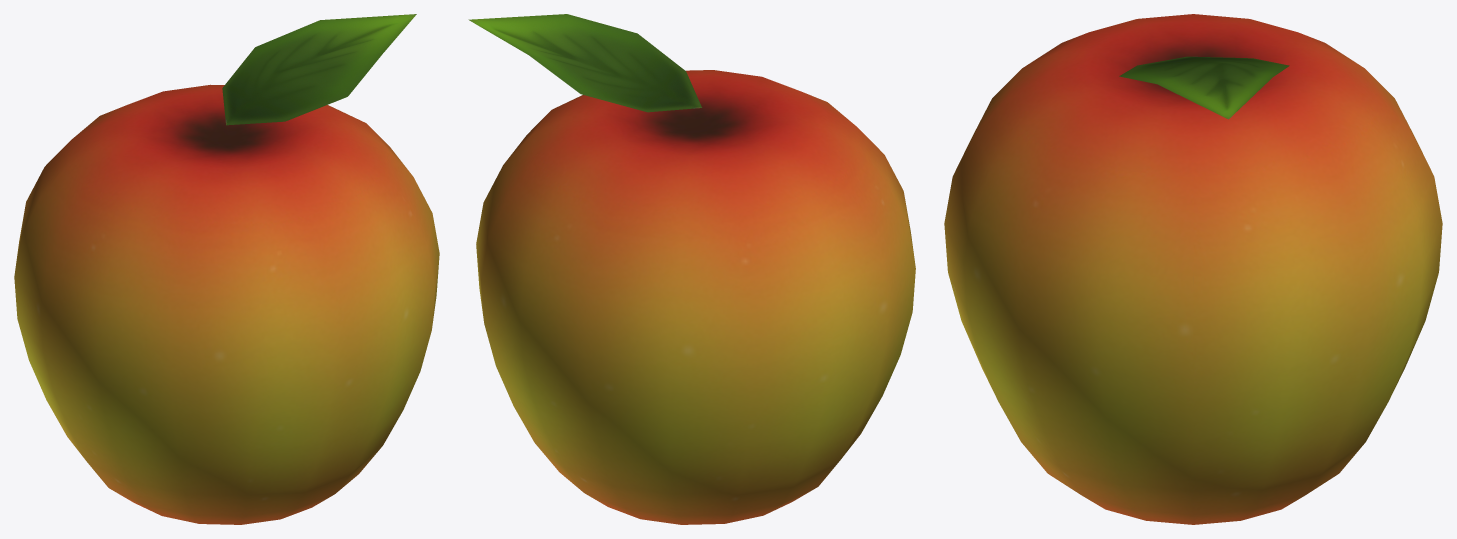
The model's file is apple-medium-poly-yellow.fbx.
The picture shows the model from 3 angles, left to right: view 1: azimuth 30°, elevation 25°; view 2: azimuth 150°, elevation 25°; view 3: azimuth 270°, elevation 25°; orthographic projection. The views are drawn at different scales.
Parts seen in each view (by area): view 1: apple_yellow, leafs_inv_2; view 2: apple_yellow, leafs_inv_2; view 3: apple_yellow, leafs_inv_2.
Part boxes in pixels (left/top/right/bottom): apple_yellow: left=14, top=84, right=439, bottom=524; leafs_inv_2: left=222, top=14, right=416, bottom=125; apple_yellow: left=476, top=70, right=915, bottom=524; leafs_inv_2: left=468, top=14, right=701, bottom=112; apple_yellow: left=944, top=14, right=1442, bottom=524; leafs_inv_2: left=1119, top=56, right=1289, bottom=119.
Bounding box in the file's own units: 161 × 163 × 153.
Materials: 2 (2 with a texture image).
